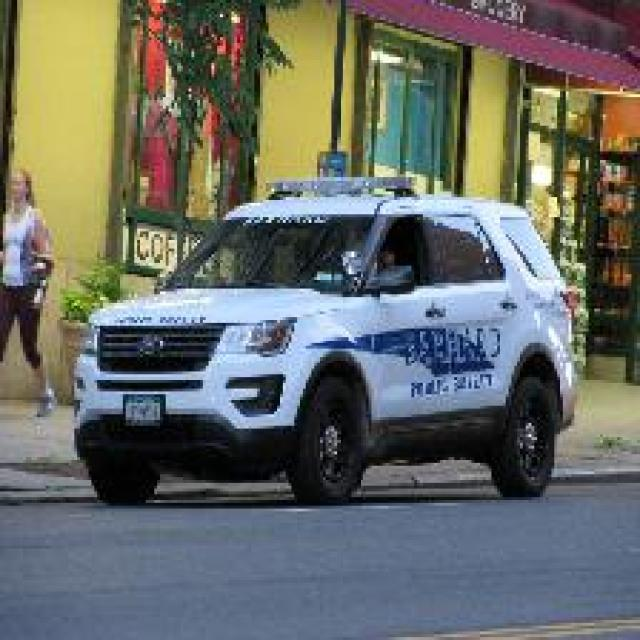emergency: (65, 168, 582, 506)
